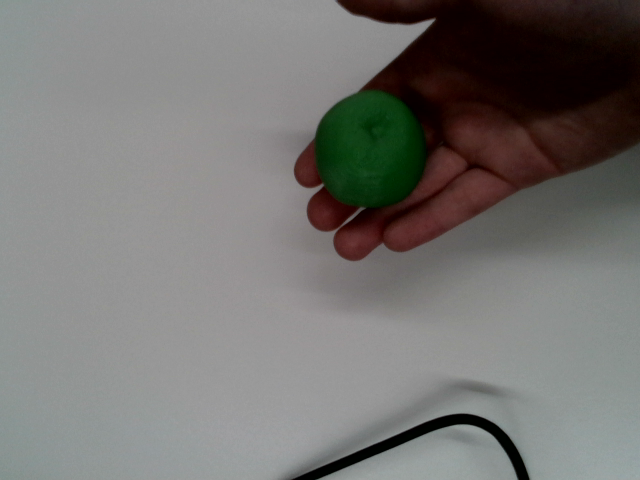green apple: (297, 77, 441, 224)
